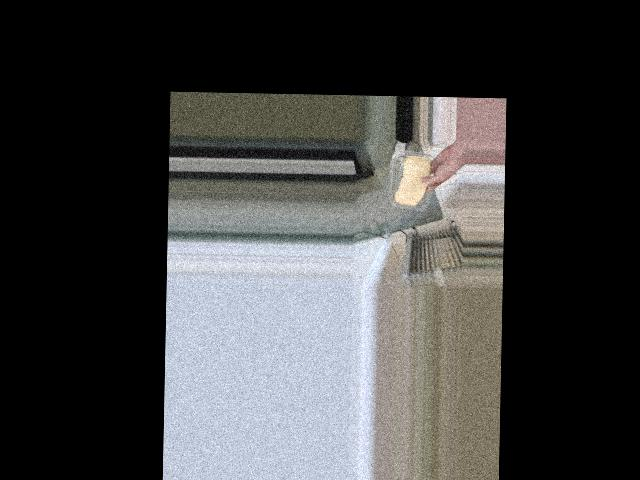cheese: (389, 151, 435, 212)
